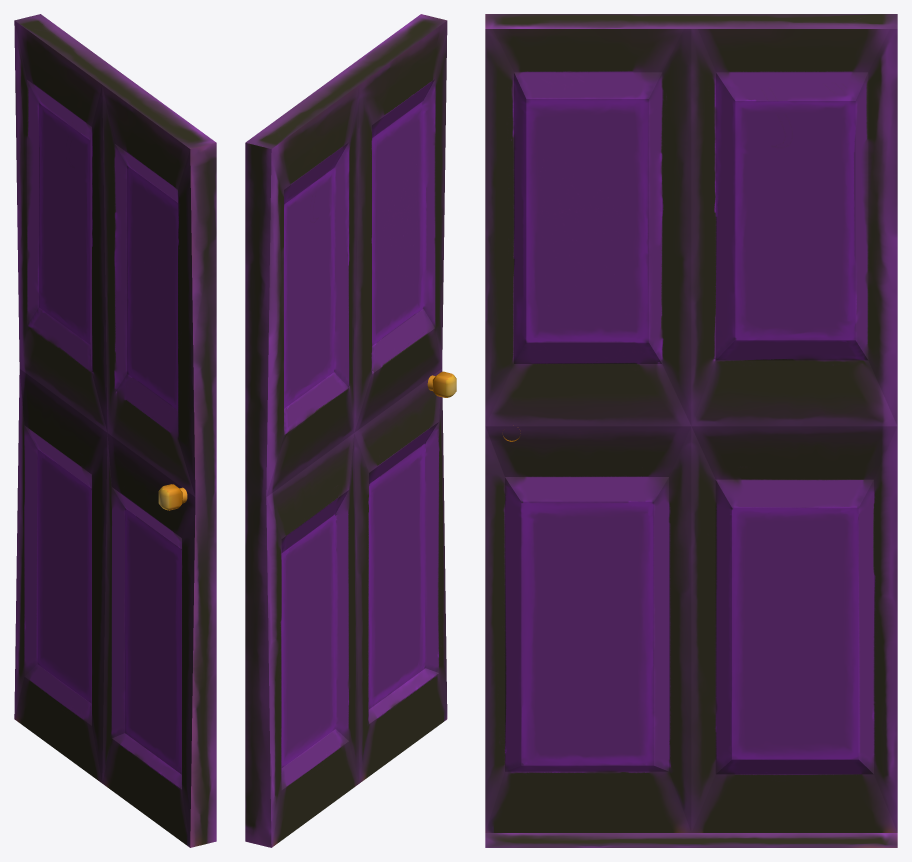
The model's file is DOOR_A.fbx.
The picture shows the model from 3 angles, left to right: view 1: azimuth 30°, elevation 25°; view 2: azimuth 150°, elevation 25°; view 3: azimuth 270°, elevation 25°; orthographic projection. The views are drawn at different scales.
Parts seen in each view (by area): view 1: door_finished; view 2: door_finished; view 3: door_finished.
Part boxes in pixels (box(x1,y1,x2,y2)): door_finished: box(14, 14, 216, 847); door_finished: box(245, 14, 456, 847); door_finished: box(485, 14, 897, 847).
Size of the model in its own units: 22.7 by 335 by 153.
